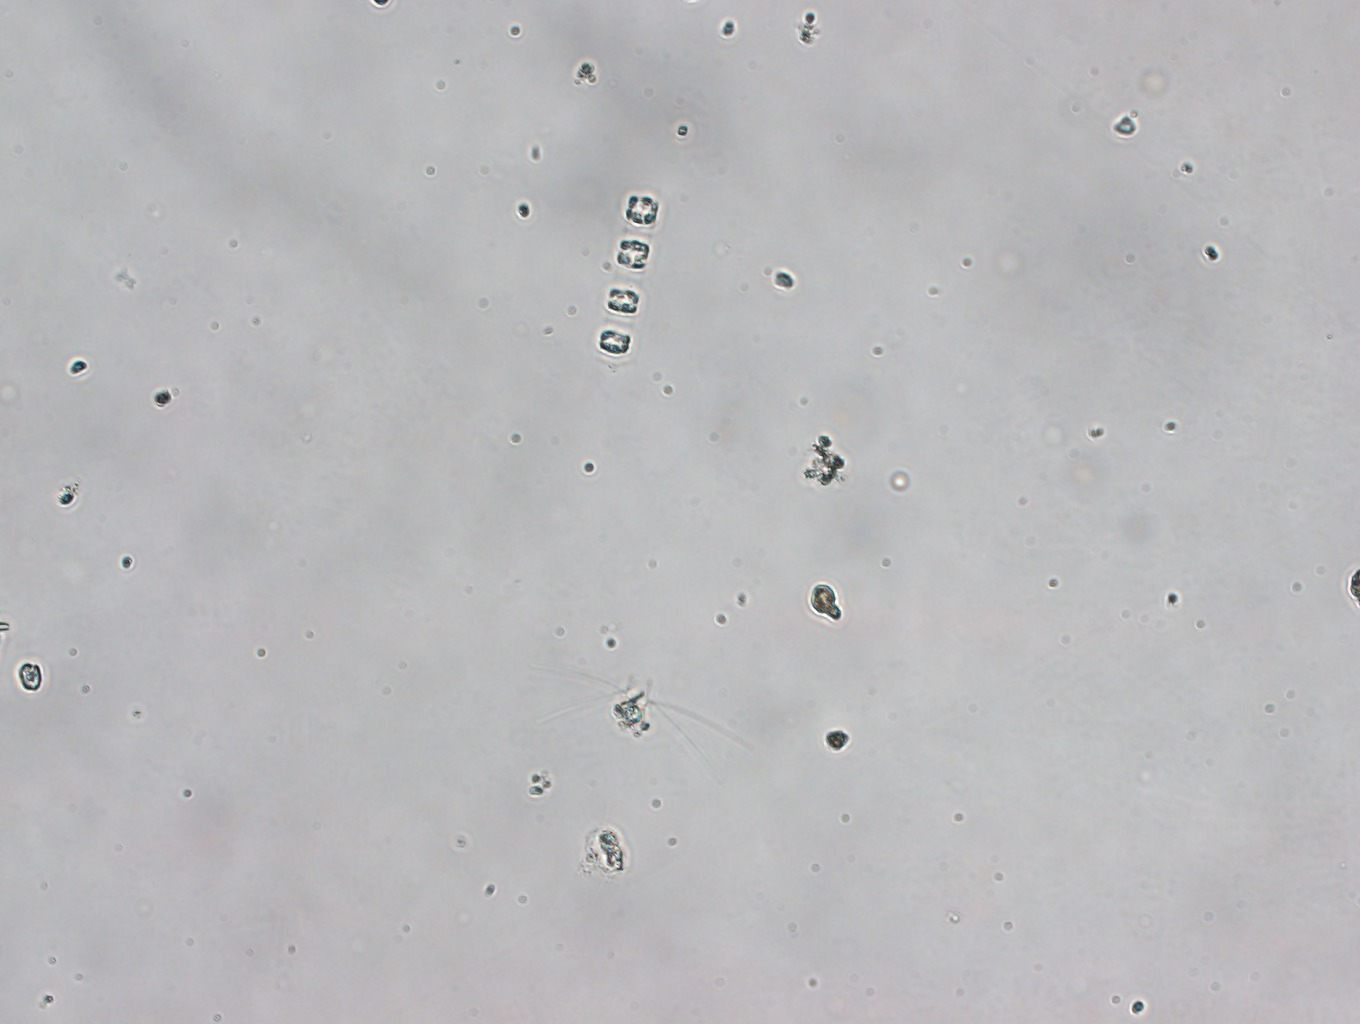chaetoceros: (506, 658, 758, 769)
skeletonema: (579, 179, 663, 362)
